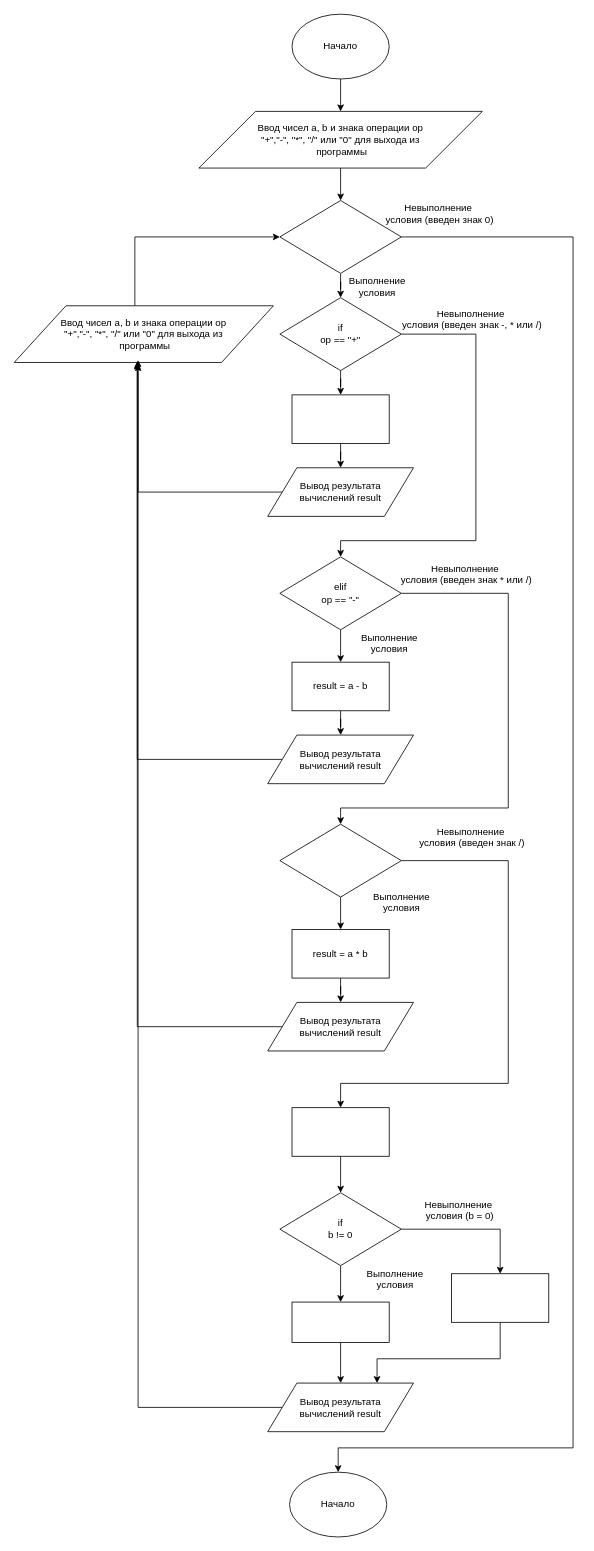
The diagram is 594 pixels wide and 1551 high, and some of its shapes have lost their labels. Here are the shapes that lost their labels. From the top down, the box of each, then its label:
(279, 200, 401, 273): while op != 0
(291, 394, 389, 443): result = a + b
(279, 823, 401, 897): elif op == "*"
(291, 1107, 389, 1156): op == " / "
(451, 1273, 549, 1322): result = 'деление на ноль невозможно'
(291, 1301, 389, 1343): result = a / b
